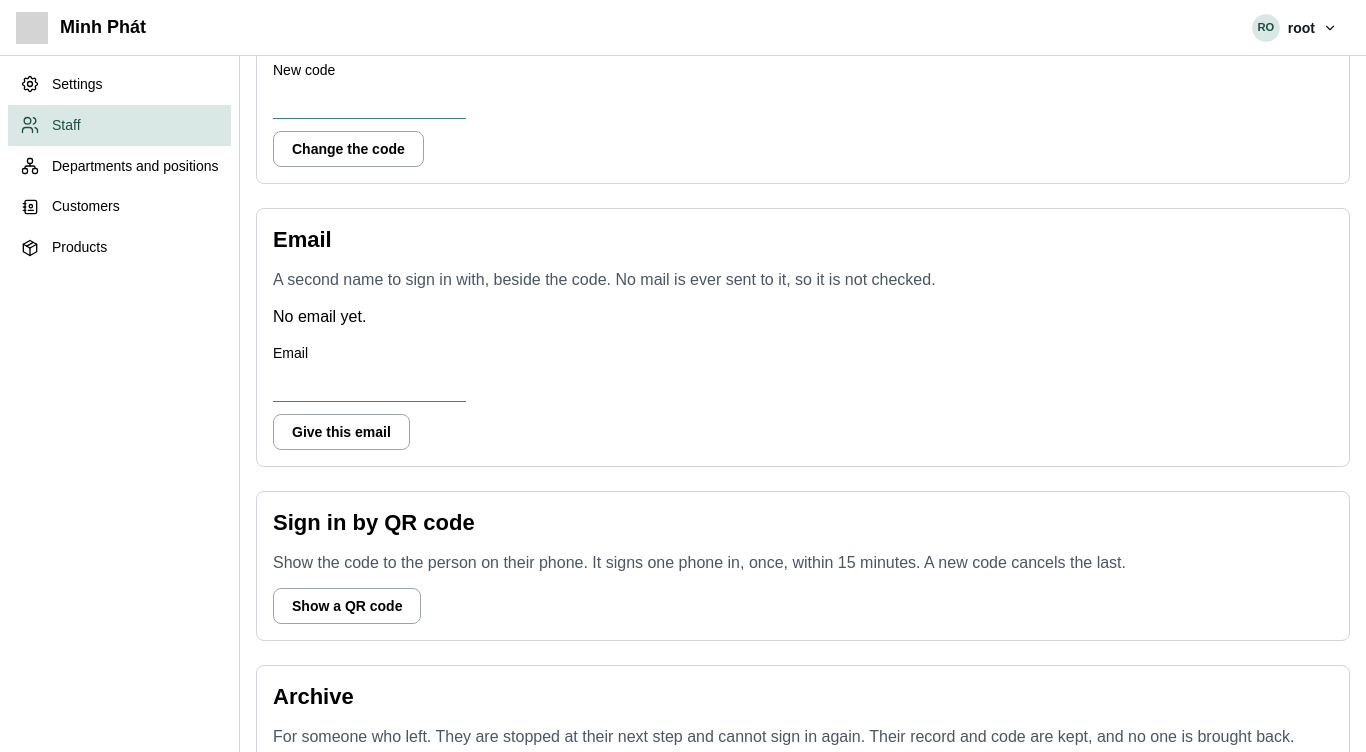
Test: an email on a person › C: The root gives a person an email on their page and takes it back; the page says it signs in beside the code and that no mail was sent
(page scrolled)
Type " Hung@Minh-Phat.Example " into the field labelled "Email".
click(370, 384); type(" Hung@Minh-Phat.Example ")  # box left=273, top=366, right=466, bottom=402
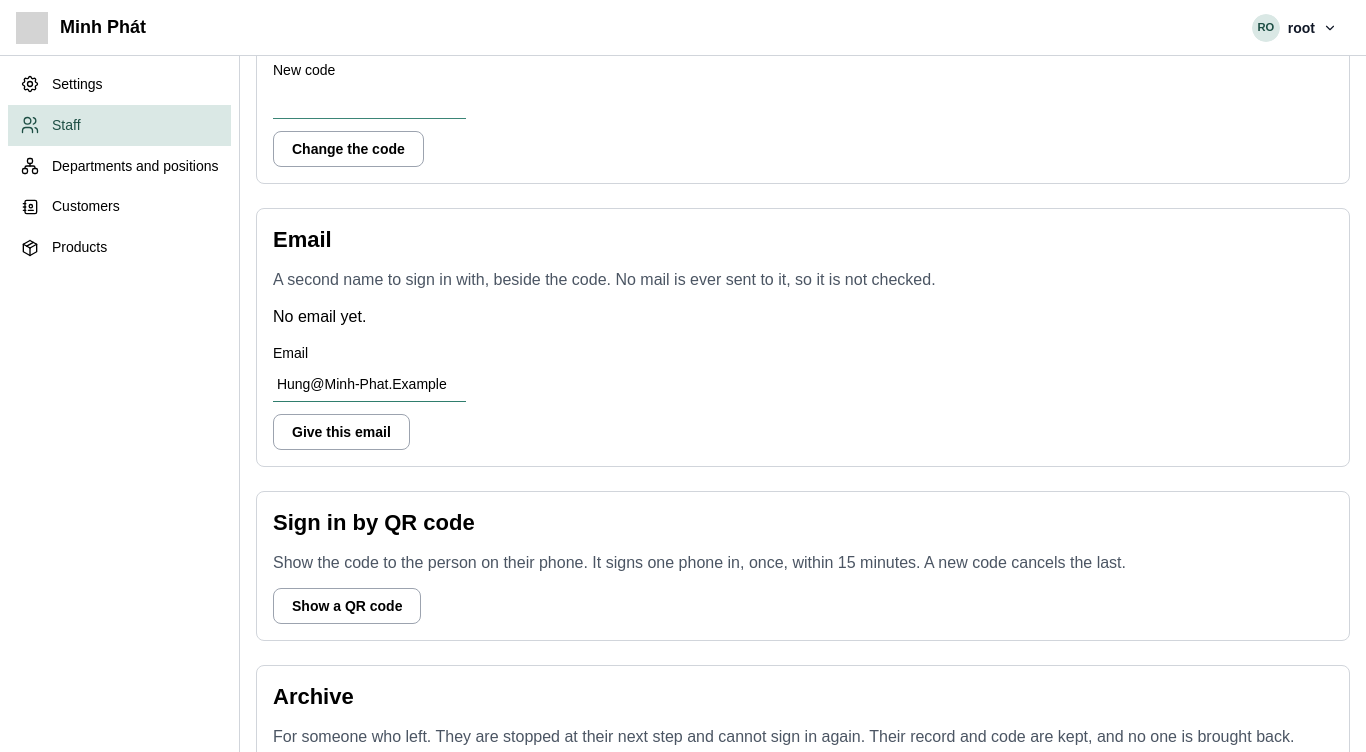
Click the button "Give this email".
click(341, 432)  # box left=273, top=414, right=410, bottom=450
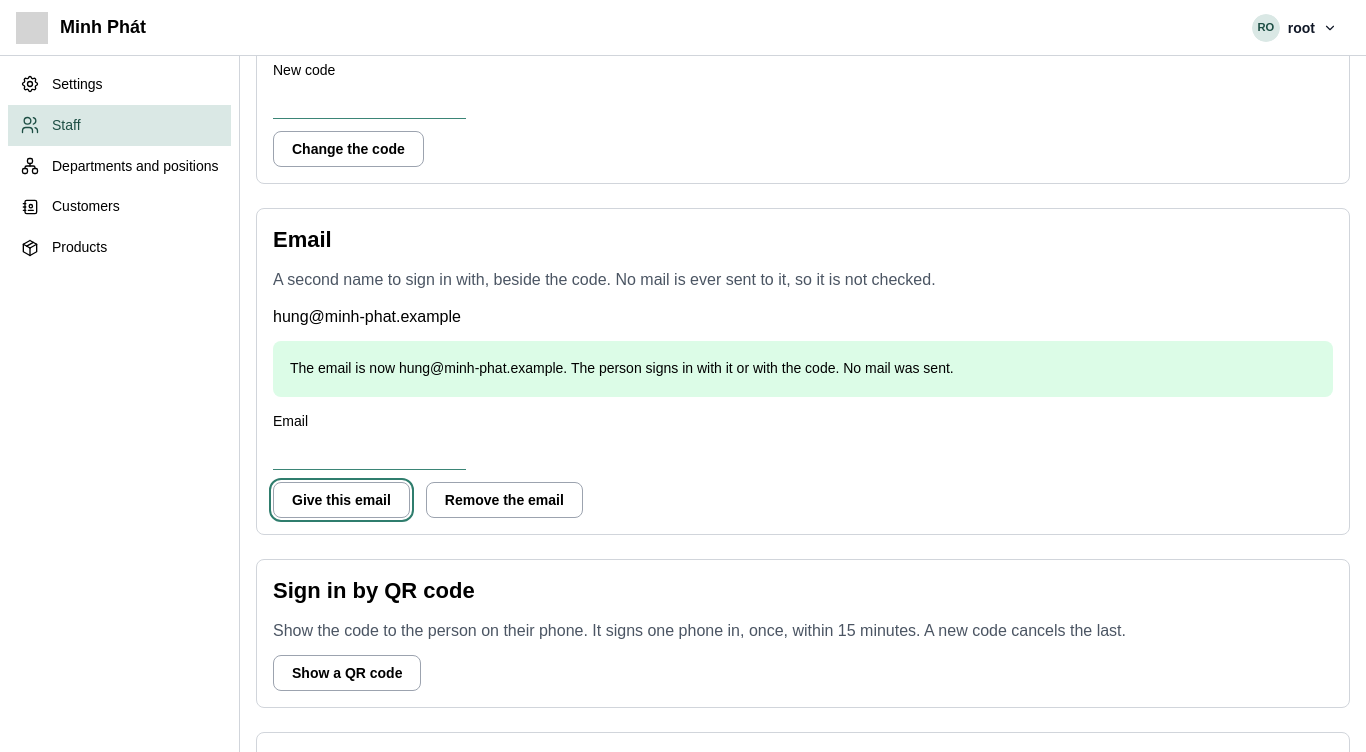
Check: the message shows "The email is now hung@minh-phat.example. The person signs in with it or with the code. No mail was sent.", box left=290, top=360, right=954, bottom=376
Check: the field labelled "Email" is empty, box left=273, top=434, right=466, bottom=470
Click the button "Remove the email".
click(504, 500)  # box left=426, top=482, right=583, bottom=518
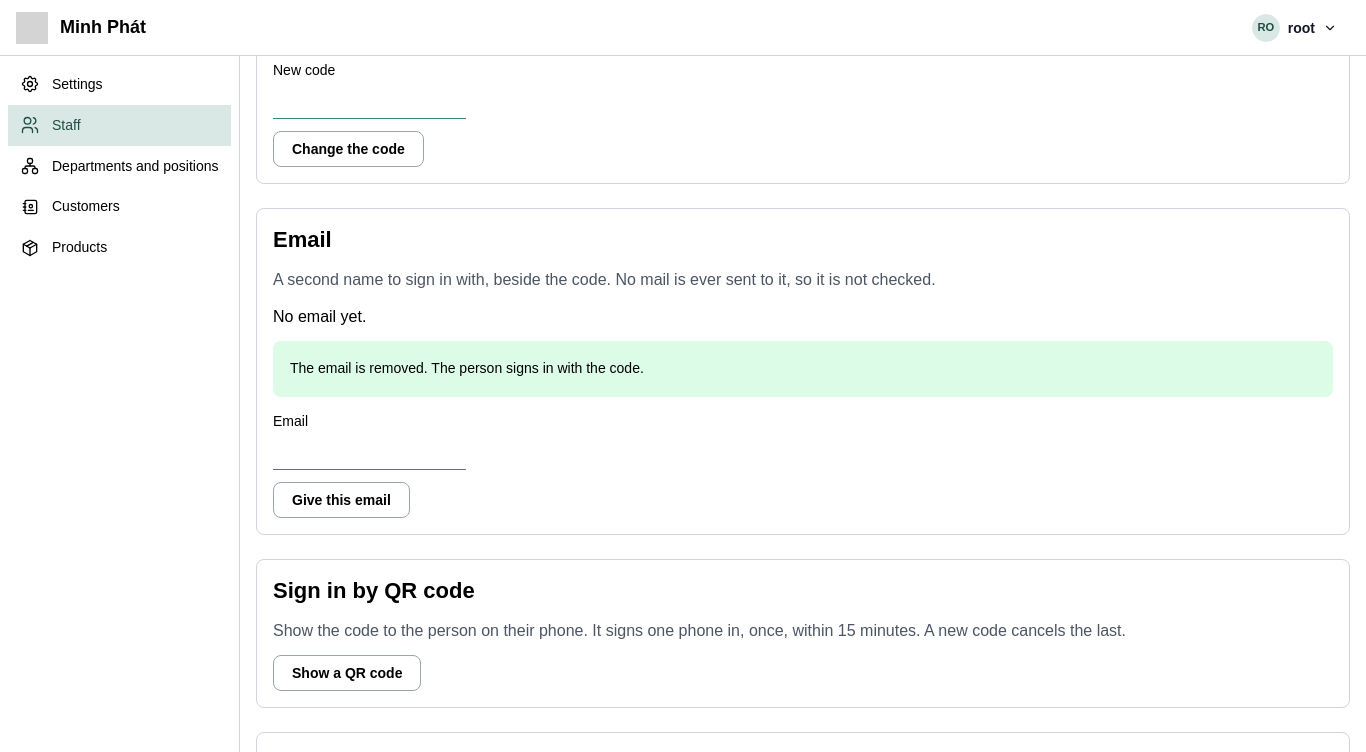
Check: the text "No email yet." is shown, box left=273, top=308, right=366, bottom=324
Check: the button "Remove the email" is gone
